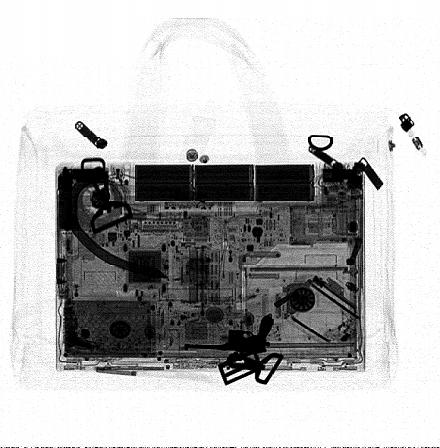Gun: (183, 311, 276, 351)
